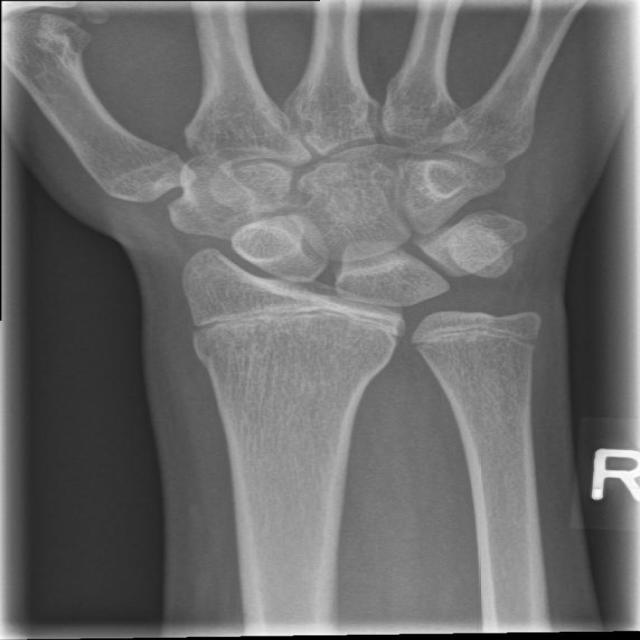fracture: (167, 292, 415, 366), (404, 314, 556, 366)
